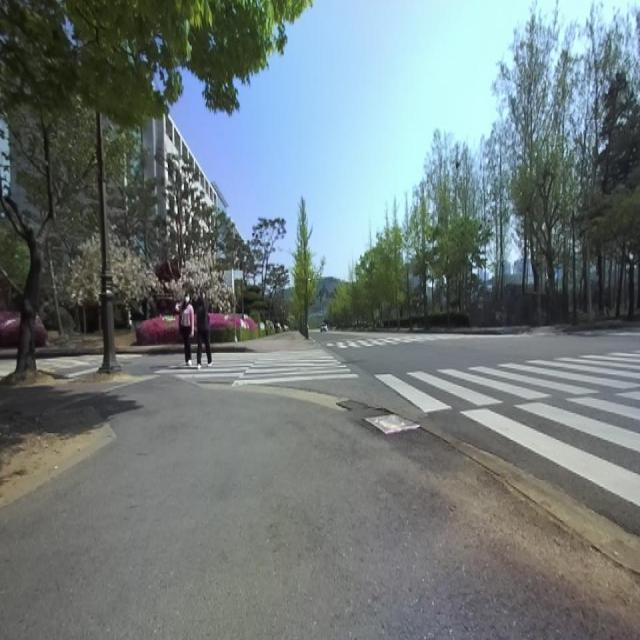sidewalk: (0, 376, 640, 638), (423, 423, 640, 580)
